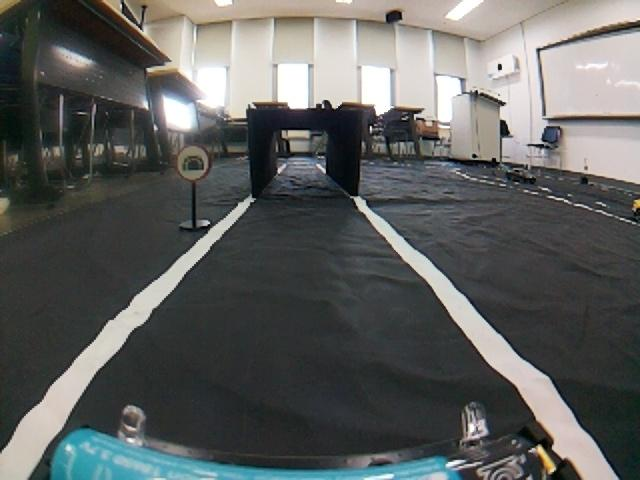sign_tunnel: (175, 143, 211, 182)
straight: (2, 199, 630, 480)
